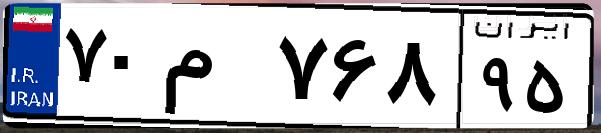0: (110, 28, 158, 98)
5: (525, 38, 570, 115)
6: (330, 28, 385, 110)
7: (270, 28, 330, 110), (57, 26, 110, 100)
8: (385, 28, 445, 110)
9: (475, 38, 525, 113)
م: (158, 20, 270, 120)
